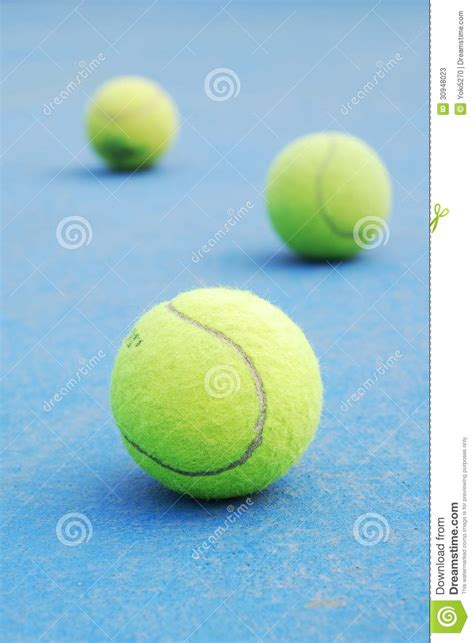tennis_ball: (108, 285, 325, 500), (265, 130, 393, 261), (84, 74, 177, 171)
